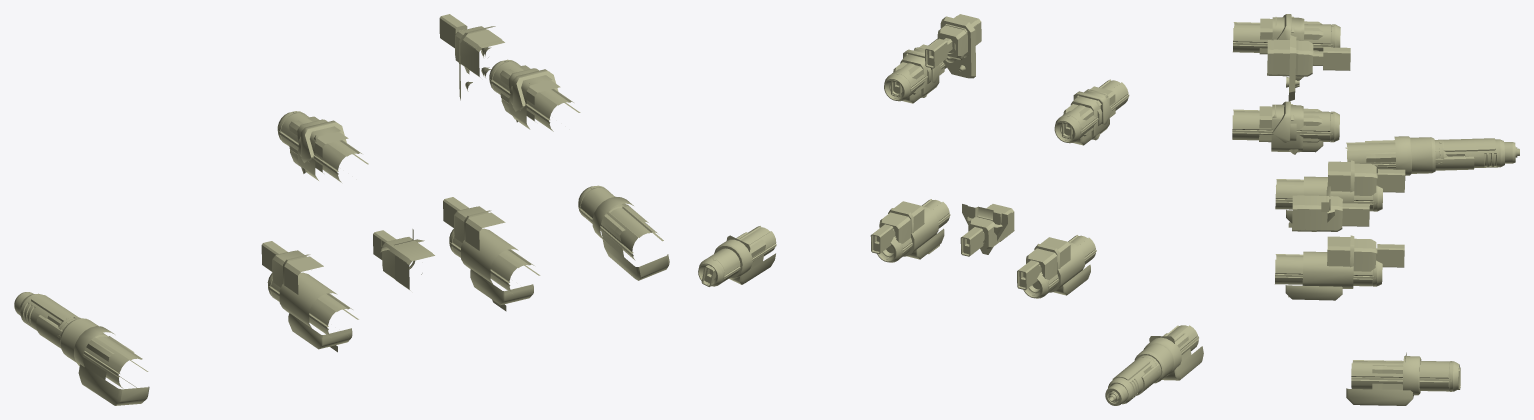
Rendered from GrasshopperWeapons.glb.
3 views of the same model, side by side, from view 1: azimuth 30°, elevation 25°; view 2: azimuth 150°, elevation 25°; view 3: azimuth 270°, elevation 25° (orthographic). The views are drawn at different scales.
Visible parts, largest first — view 1: Forearm_Left_BH1_AC10, Torso_Right_EH1_PPC, Torso_Left_EH1_PPC, Forearm_Right_EH1_PPC, Torso_Left_EH2_PPC, Torso_Right_EH2_PPC, Forearm_Left_EH1_PPC, Torso_Right_EH1_Flamer, Torso_Left_EH1_Flamer, Torso_Center_EH1_Laser, Head_EH1_Flamer, Head_EH1_Laser (+4 smaller); view 2: Forearm_Left_BH1_AC10, Forearm_Right_EH1_PPC, Torso_Right_EH1_PPC, Torso_Left_EH1_PPC, Torso_Left_EH2_PPC, Torso_Right_EH2_PPC, Torso_Right_EH1_Flamer, Head_EH1_Laser, Torso_Left_EH1_Flamer, Torso_Center_EH1_Flamer, Head_MH1_Missile4, Head_EH1_Flamer (+7 smaller); view 3: Forearm_Right_EH1_PPC, Forearm_Left_BH1_AC10, Torso_Right_EH1_PPC, Torso_Right_EH2_PPC, Torso_Left_EH1_PPC, Torso_Left_EH2_PPC, Torso_Center_EH1_Laser, Head_EH1_Flamer, Torso_Right_EH1_Flamer, Torso_Left_EH1_Flamer, Torso_Right_EH2_Laser, Forearm_Left_EH1_PPC (+10 smaller).
Part boxes in pixels (x1,y1,x2,y2): Forearm_Left_BH1_AC10: (14,292,149,405); Torso_Right_EH1_PPC: (449,221,540,311); Torso_Left_EH1_PPC: (267,266,358,352); Forearm_Right_EH1_PPC: (578,185,669,280); Torso_Left_EH2_PPC: (277,111,368,182); Torso_Right_EH2_PPC: (489,59,580,131); Forearm_Left_EH1_PPC: (57,316,148,389); Torso_Right_EH1_Flamer: (443,197,505,250); Torso_Left_EH1_Flamer: (261,241,323,294); Torso_Center_EH1_Laser: (382,237,432,279); Head_EH1_Flamer: (439,14,501,57); Head_EH1_Laser: (455,26,504,77); Forearm_Left_BH1_AC10: (1105,336,1203,405); Forearm_Right_EH1_PPC: (698,226,776,286); Torso_Right_EH1_PPC: (877,199,950,262); Torso_Left_EH1_PPC: (1023,235,1096,298); Torso_Left_EH2_PPC: (1054,79,1129,145); Torso_Right_EH2_PPC: (884,38,946,103); Torso_Right_EH1_Flamer: (870,201,924,253); Head_EH1_Laser: (937,14,981,60); Torso_Left_EH1_Flamer: (1017,237,1070,290); Torso_Center_EH1_Flamer: (960,204,1014,256); Head_MH1_Missile4: (940,19,975,78); Head_EH1_Flamer: (925,15,978,68); Forearm_Right_EH1_PPC: (1346,352,1459,405); Forearm_Left_BH1_AC10: (1339,136,1515,175); Torso_Right_EH1_PPC: (1275,251,1382,300); Torso_Right_EH2_PPC: (1232,101,1339,152); Torso_Left_EH1_PPC: (1275,175,1382,227); Torso_Left_EH2_PPC: (1233,14,1340,52); Torso_Center_EH1_Laser: (1296,195,1342,231); Head_EH1_Flamer: (1273,39,1350,74); Torso_Right_EH1_Flamer: (1327,235,1404,267); Torso_Left_EH1_Flamer: (1327,161,1405,192); Torso_Right_EH2_Laser: (1271,104,1322,152); Forearm_Left_EH1_PPC: (1345,137,1447,167).
Bounding box in the file's own units: 1.61 × 0.8868 × 0.8343.
